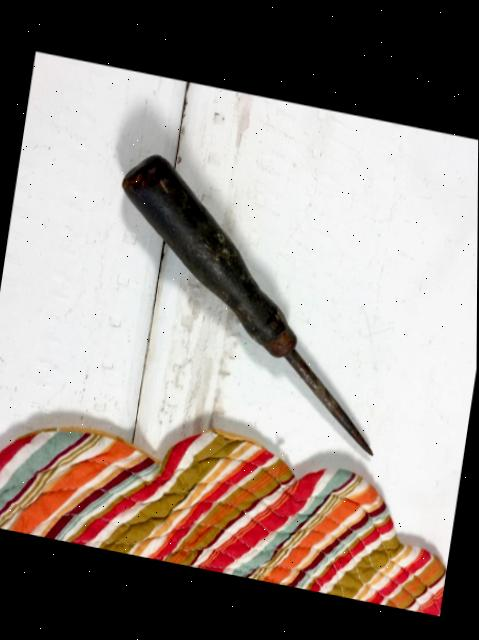ice pick: (86, 144, 409, 452)
